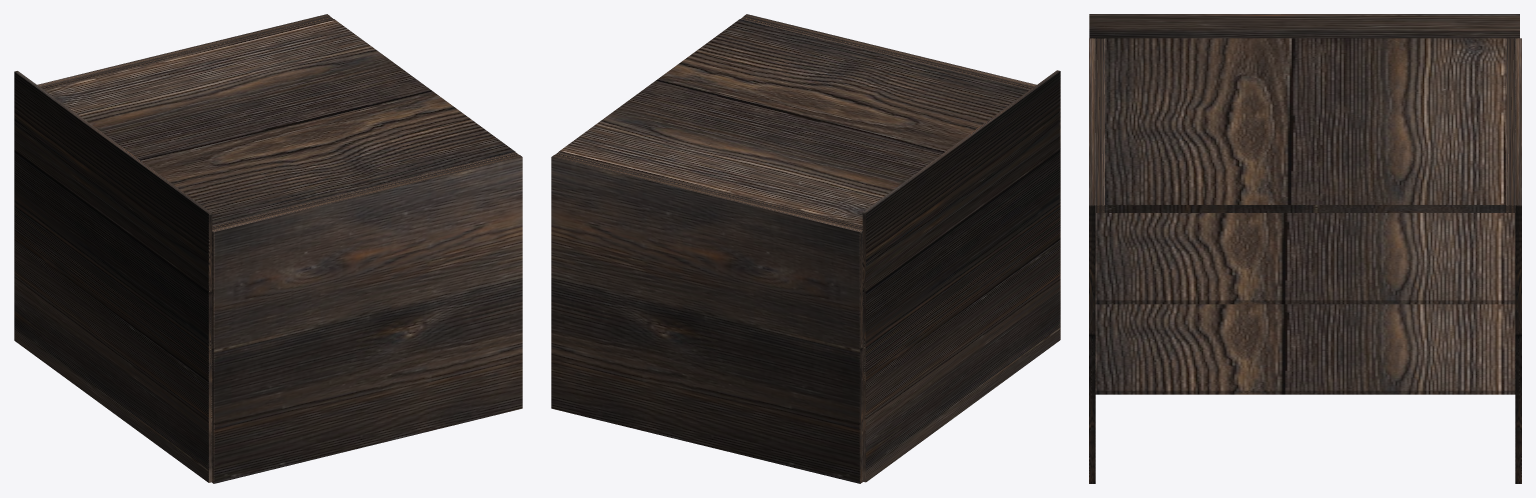
Rendered from base_vis.obj.
3 views of the same model, side by side, from view 1: azimuth 30°, elevation 25°; view 2: azimuth 150°, elevation 25°; view 3: azimuth 270°, elevation 25° (orthographic). The views are drawn at different scales.
Visible parts, largest first — view 1: Cube.001, Cube.006, Cube.004, Cube.003; view 2: Cube.001, Cube.006, Cube.004, Cube.003; view 3: Cube.004, Cube.022, Cube.023, Cube.006, Cube.001, Cube.003.
Part boxes in pixels (bbox=[...]): Cube.001: bbox=[37, 14, 522, 483]; Cube.006: bbox=[14, 71, 212, 482]; Cube.004: bbox=[44, 19, 515, 225]; Cube.003: bbox=[41, 16, 518, 229]; Cube.001: bbox=[551, 14, 1036, 483]; Cube.006: bbox=[862, 70, 1060, 482]; Cube.004: bbox=[559, 19, 1029, 226]; Cube.003: bbox=[555, 16, 1033, 229]; Cube.004: bbox=[1104, 38, 1506, 212]; Cube.022: bbox=[1095, 133, 1515, 304]; Cube.023: bbox=[1095, 304, 1515, 394]; Cube.006: bbox=[1089, 14, 1519, 132]; Cube.001: bbox=[1089, 38, 1521, 483]; Cube.003: bbox=[1096, 38, 1514, 212].
Size of the model in its own units: 3.77 by 3.11 by 4.06.
1 material, 1 textured.
